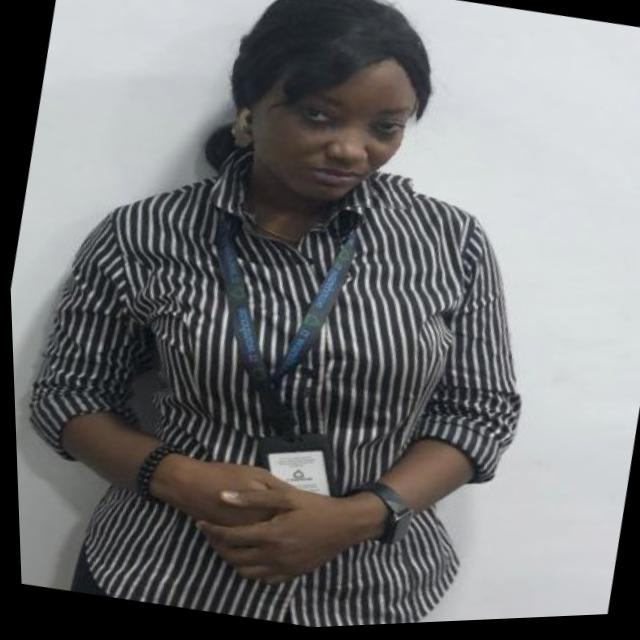sad: (213, 17, 438, 234)
